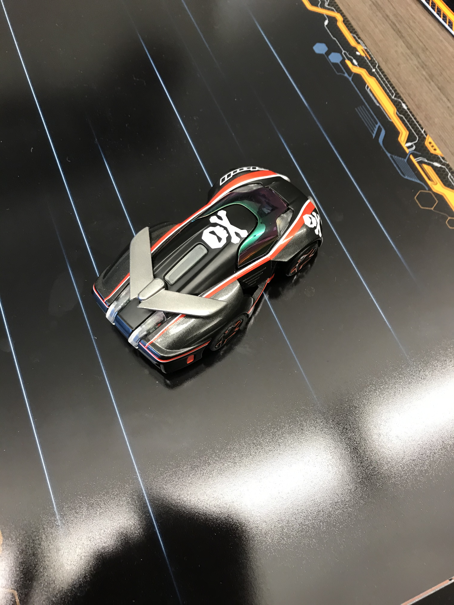Skull: (90, 165, 324, 367)
